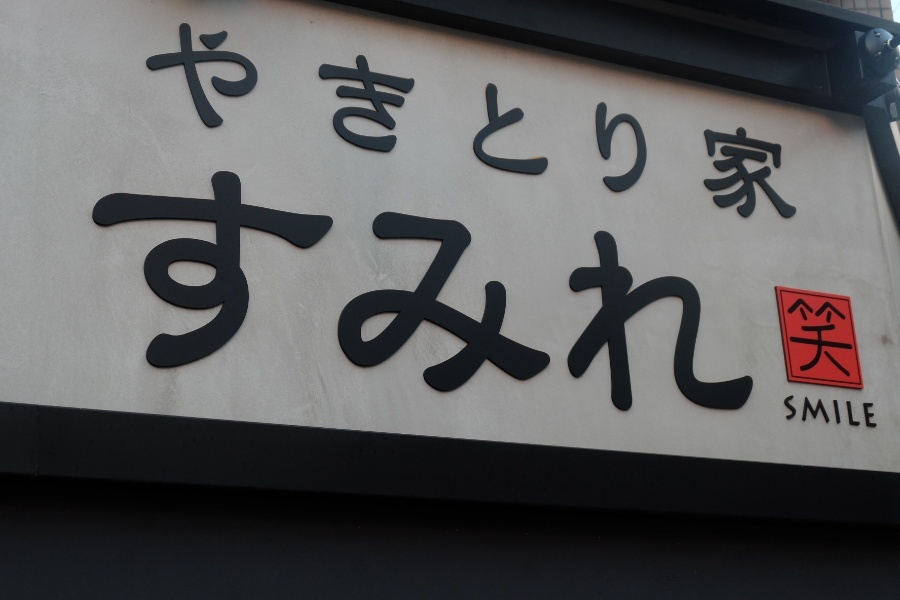text: (97, 152, 112, 429), (113, 152, 128, 429), (129, 152, 144, 429), (145, 152, 160, 429), (161, 152, 176, 429), (177, 152, 192, 429), (193, 152, 208, 429), (209, 152, 224, 429), (225, 152, 240, 429), (241, 152, 256, 429), (257, 152, 272, 429), (273, 152, 288, 429), (289, 152, 304, 429), (305, 152, 320, 429), (321, 152, 336, 429), (337, 152, 352, 429), (353, 152, 368, 429), (369, 152, 384, 429), (385, 152, 400, 429), (401, 152, 416, 429), (417, 152, 432, 429), (433, 152, 448, 429), (449, 152, 464, 429), (465, 152, 480, 429), (481, 152, 496, 429), (497, 152, 512, 429), (513, 152, 528, 429), (529, 152, 544, 429), (545, 152, 560, 429), (561, 152, 576, 429), (577, 152, 592, 429), (593, 152, 608, 429), (609, 152, 624, 429), (625, 152, 640, 429), (641, 152, 656, 429), (657, 152, 672, 429), (673, 152, 688, 429), (689, 152, 704, 429), (705, 152, 720, 429), (721, 152, 736, 429), (737, 152, 752, 429), (161, 11, 176, 229), (177, 11, 192, 229), (193, 11, 208, 229), (209, 11, 224, 229), (225, 11, 240, 229), (241, 11, 256, 229), (257, 11, 272, 229), (273, 11, 288, 229), (289, 11, 304, 229), (305, 11, 320, 229), (321, 11, 336, 229), (337, 11, 352, 229), (353, 11, 368, 229), (369, 11, 384, 229), (385, 11, 400, 229), (401, 11, 416, 229), (417, 11, 432, 229), (433, 11, 448, 229), (449, 11, 464, 229), (465, 11, 480, 229), (481, 11, 496, 229), (497, 11, 512, 229), (513, 11, 528, 229), (529, 11, 544, 229), (545, 11, 560, 229), (561, 11, 576, 229), (577, 11, 592, 229), (593, 11, 608, 229), (609, 11, 624, 229), (625, 11, 640, 229), (641, 11, 656, 229), (657, 11, 672, 229), (673, 11, 688, 229), (689, 11, 704, 229), (705, 11, 720, 229), (721, 11, 736, 229), (737, 11, 752, 229), (753, 11, 768, 229), (769, 11, 784, 229), (785, 11, 800, 229), (149, 11, 160, 229), (753, 152, 758, 429), (785, 295, 800, 382), (801, 295, 816, 382), (817, 295, 832, 382), (833, 295, 848, 382), (849, 295, 858, 382), (865, 393, 881, 431), (785, 393, 800, 431), (801, 393, 816, 431), (817, 393, 832, 431), (833, 393, 848, 431), (849, 393, 864, 431), (95, 152, 96, 429), (781, 393, 784, 431)
